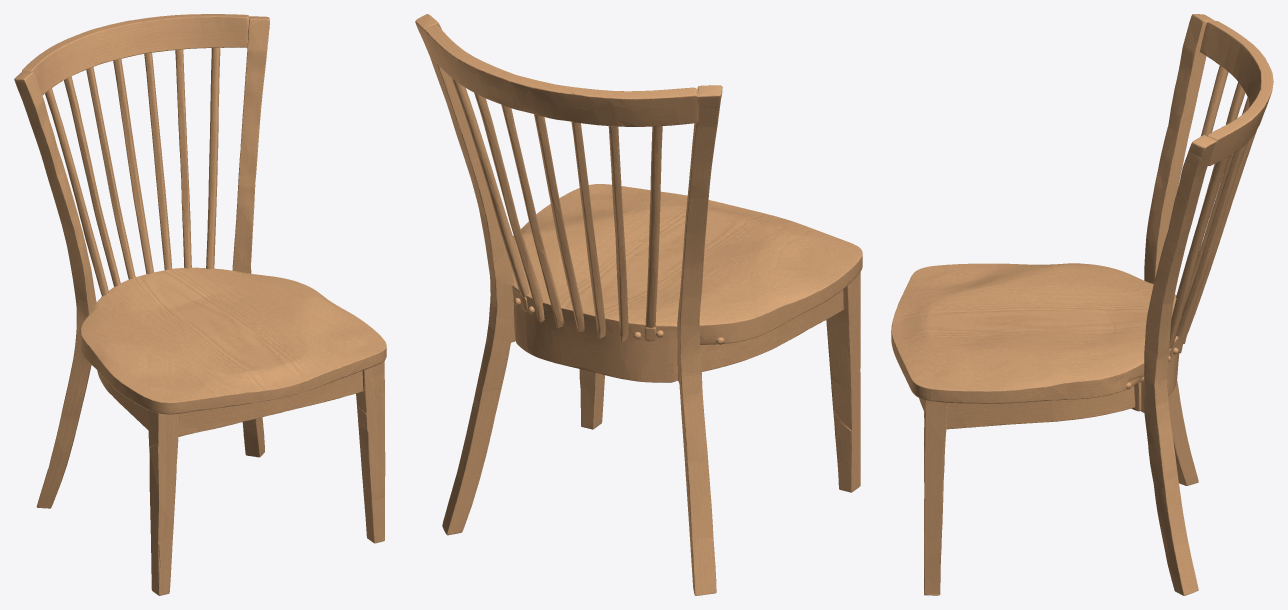
The picture shows the model from 3 angles, left to right: view 1: azimuth 30°, elevation 25°; view 2: azimuth 150°, elevation 25°; view 3: azimuth 270°, elevation 25°; orthographic projection. The views are drawn at different scales.
Bounding box in the file's own units: 1.18 × 1.9 × 1.44.
Materials: 1 (1 with a texture image).
